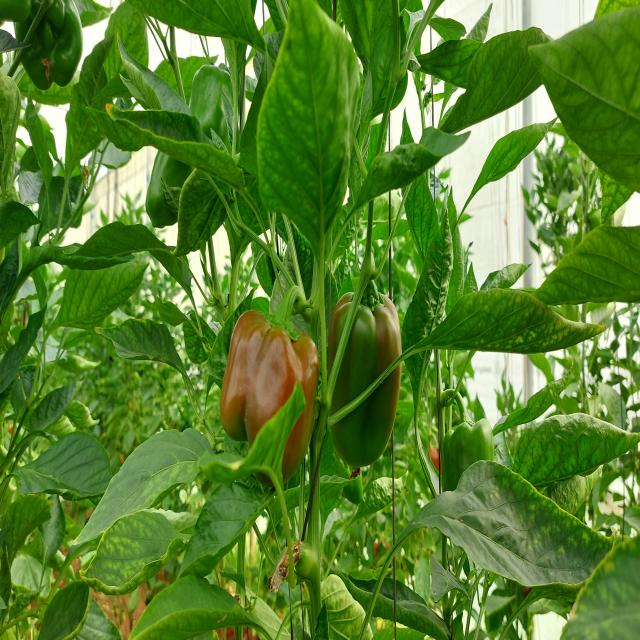BrownishRed--Can-be-Harvested: (218, 312, 318, 491), (329, 300, 401, 472)
